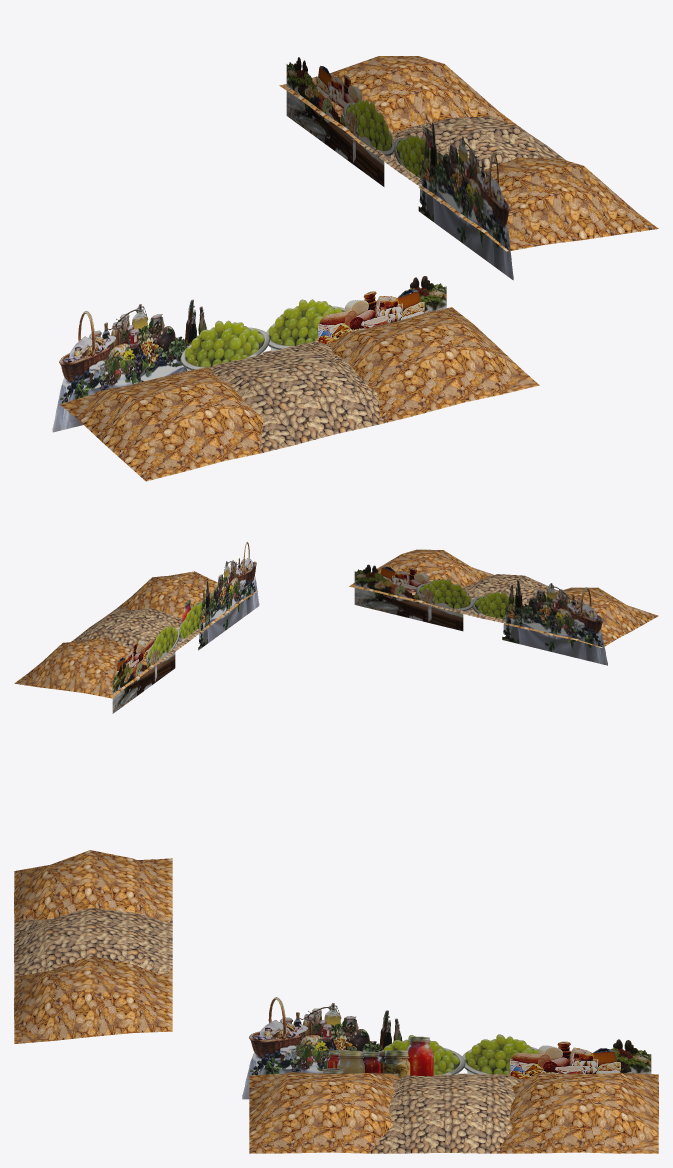
File: item_shop_food.fbx
3 renders of one model, top to bottom at view 1: azimuth 30°, elevation 25°; view 2: azimuth 150°, elevation 25°; view 3: azimuth 270°, elevation 25°, orthographic. The views are drawn at different scales.
Parts seen in each view (by area): view 1: polySurface209, polySurface210; view 2: polySurface209, polySurface210; view 3: polySurface210, polySurface209.
Boxes of the visible parts, x1,y1,x2,y2 form: polySurface209: (52,276,539,481); polySurface210: (279,56,658,280); polySurface209: (349,549,658,665); polySurface210: (14,542,259,713); polySurface210: (242,997,658,1153); polySurface209: (14,850,172,1043).
Size of the model in its own units: 23.56 by 4.37 by 21.21.
